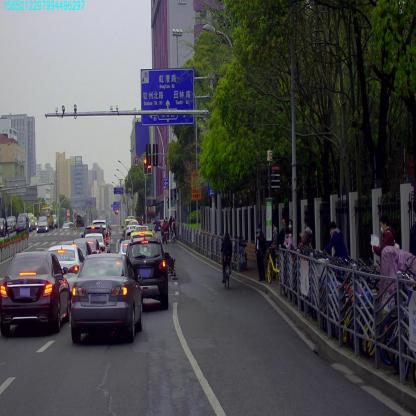traffic-light: (148, 157, 151, 174), (144, 158, 147, 174)
